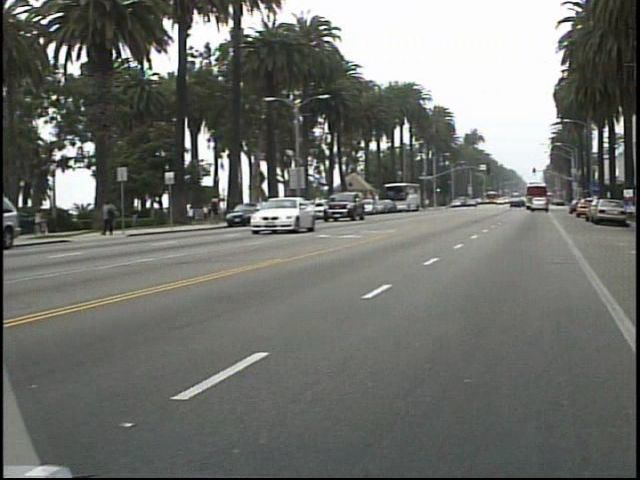person: (107, 194, 128, 237), (212, 190, 231, 224)
